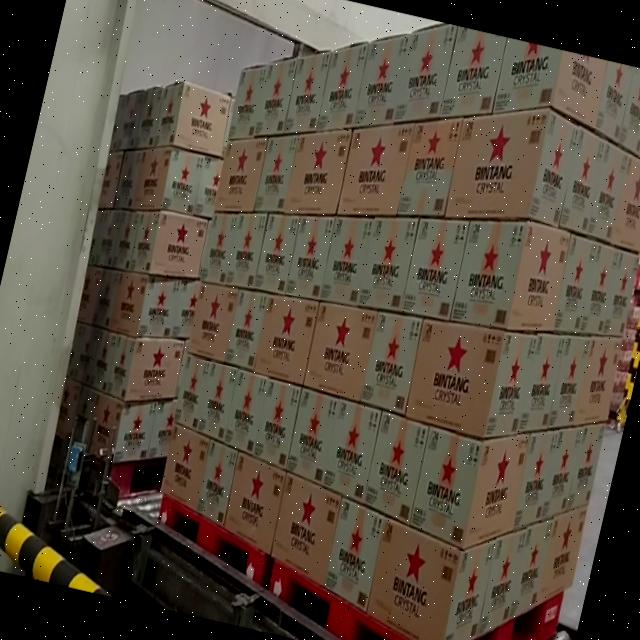pallet: (238, 6, 640, 640), (121, 0, 397, 598), (18, 58, 258, 529)
